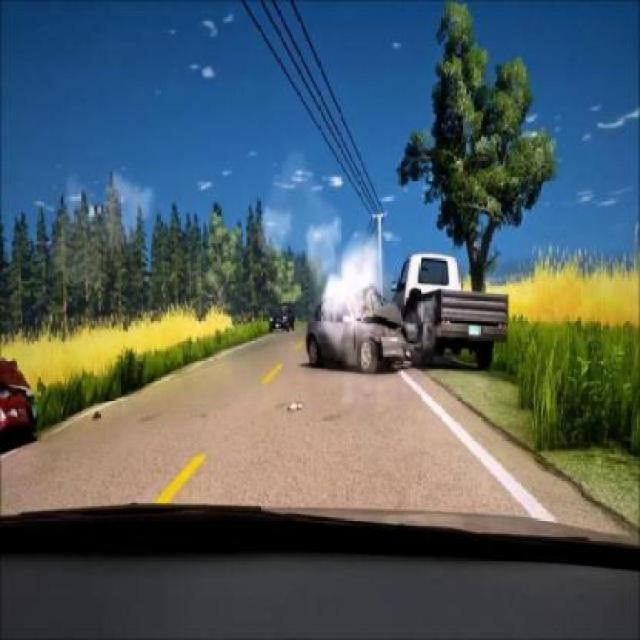accident: (296, 241, 530, 373)
